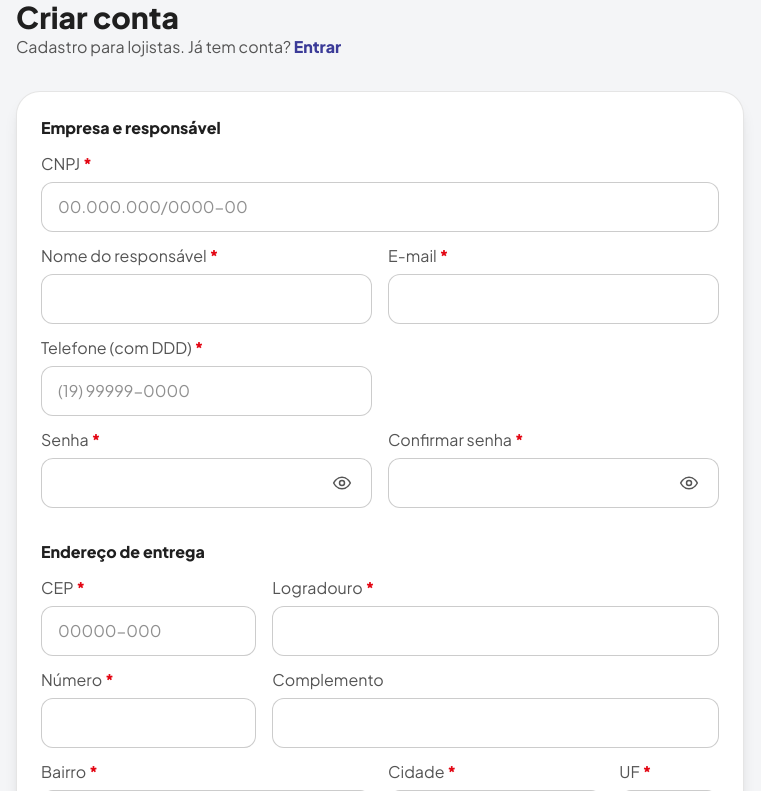
Scenario: Cadastro: avisos nos campos obrigatórios › CNPJ com número errado: "Informe um CNPJ válido."
The image size is (761, 791).
Type "11222333000182" into the field labelled "CNPJ *" at (380, 207), box [41,182,719,232]
(page scrolled)
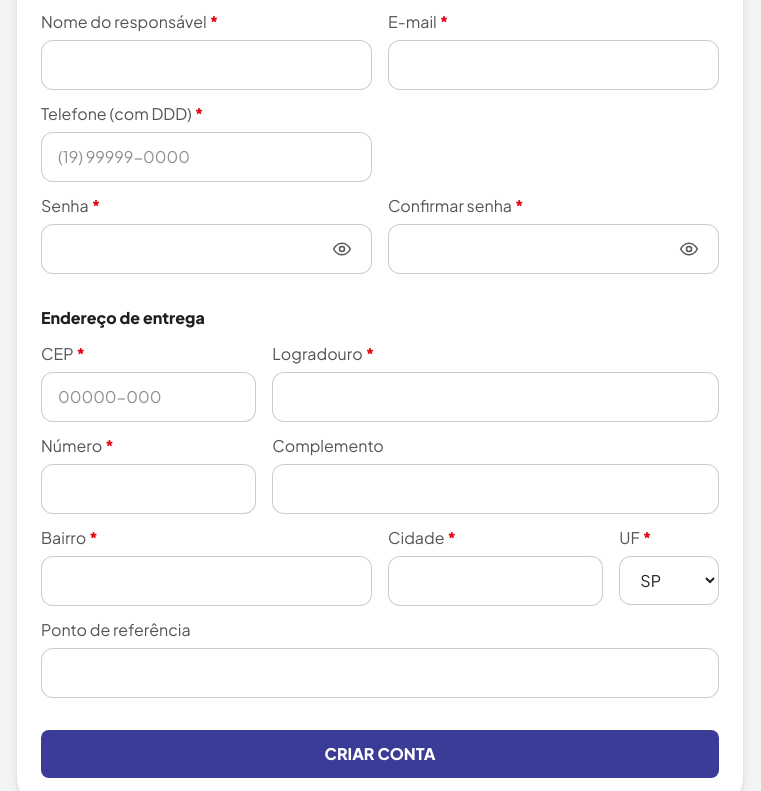
Click the button "Criar conta" at (380, 754), box [41,730,719,778]
(page scrolled)
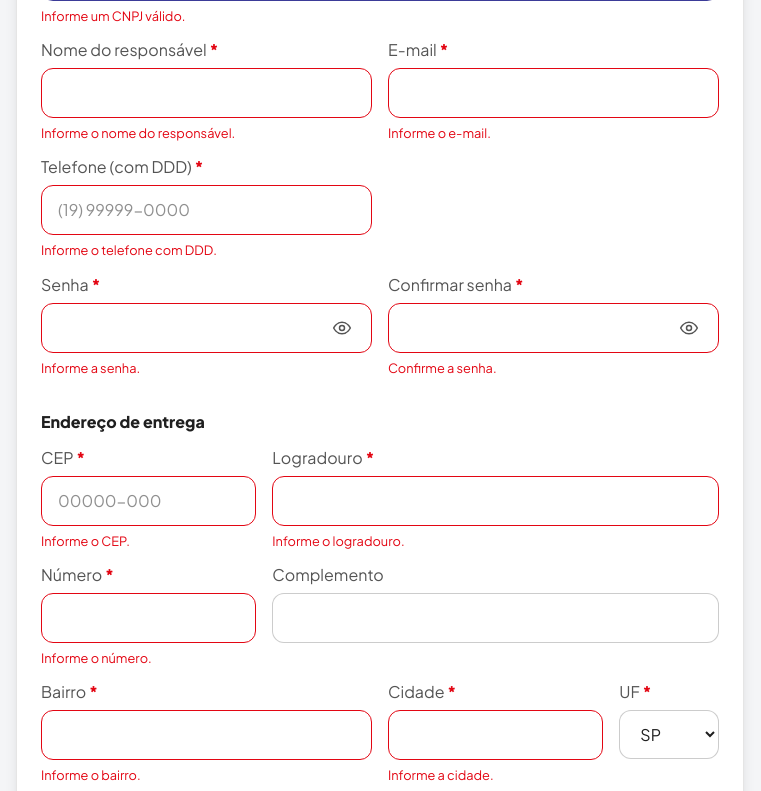
Expected: the text "Informe um CNPJ válido." is shown, [41,8,186,24]
